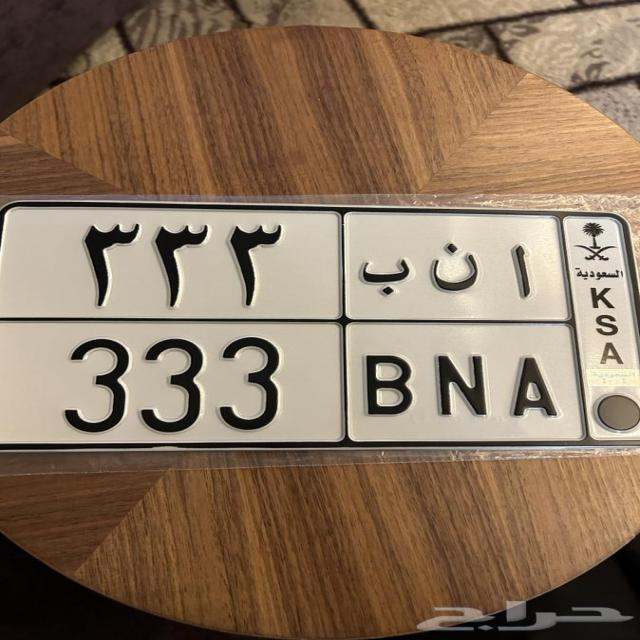license_plate: (0, 317, 593, 454)
